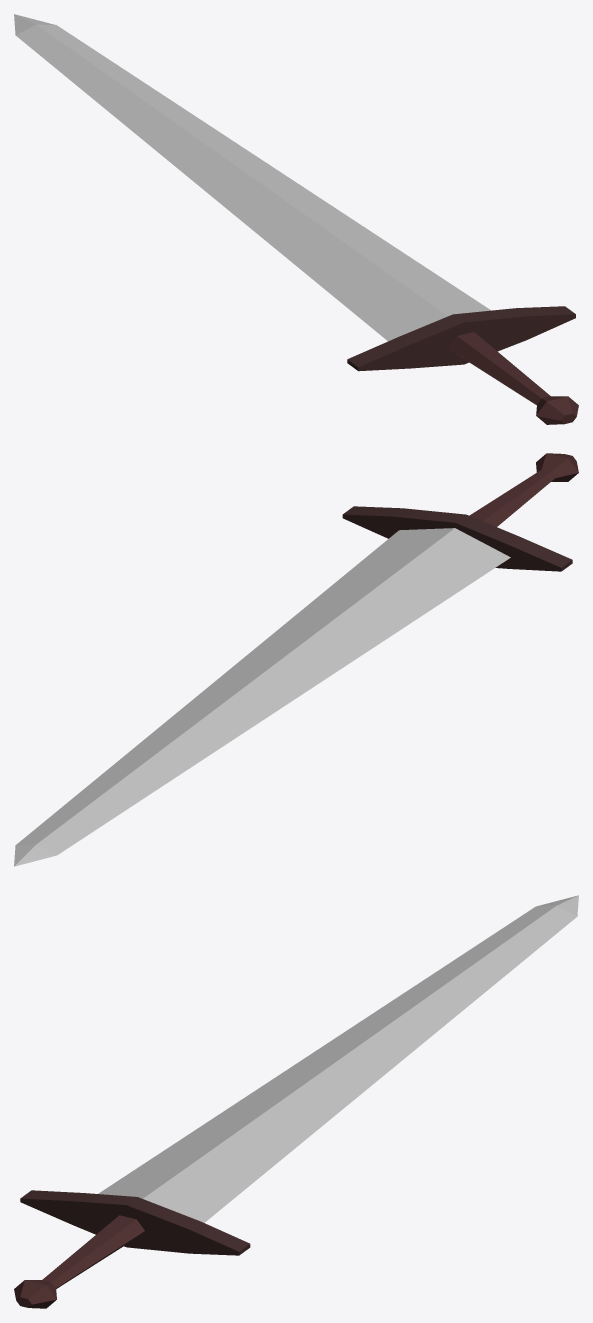
File: sword.fbx
3 renders of one model, top to bottom at view 1: azimuth 30°, elevation 25°; view 2: azimuth 150°, elevation 25°; view 3: azimuth 330°, elevation 25°, orthographic.
Visible parts, largest first — view 1: pCylinder4; view 2: pCylinder4; view 3: pCylinder4.
Boxes of the visible parts, x1,y1,x2,y2 form: pCylinder4: [14, 14, 578, 424]; pCylinder4: [14, 453, 578, 866]; pCylinder4: [14, 895, 578, 1308].
Size of the model in its own units: 3.6 by 0.6632 by 15.82.
